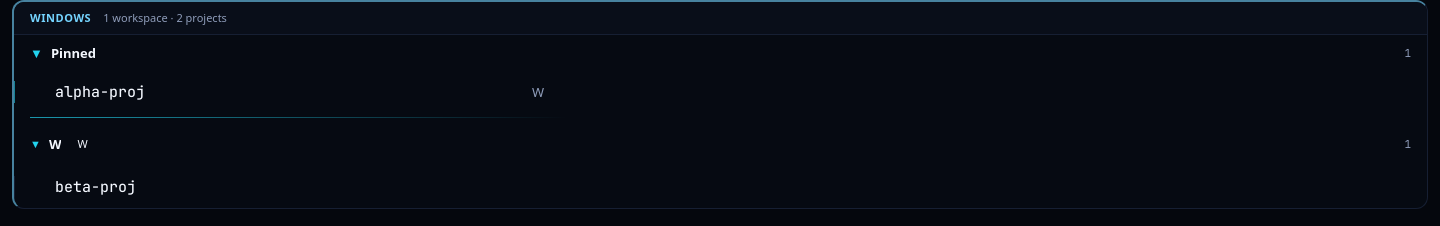
Test: ProjectTree — the pinned drawer › counts a workspace without the pins lifted out of it
expect the element showing "▼ W W 1" is shown: met, box [30,135,1411,153]
Step 1. Click the button "▼ Pinned 1" → point(73, 53), box [30,44,1411,62]
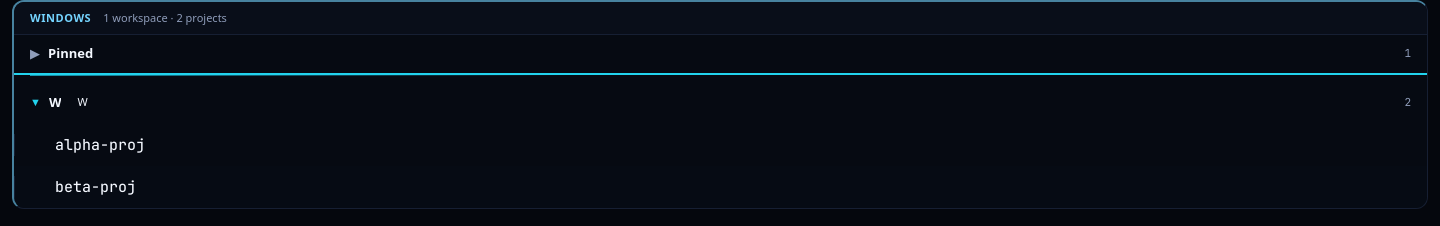
expect the element showing "▼ W W 2" is shown: met, box [30,93,1411,111]
